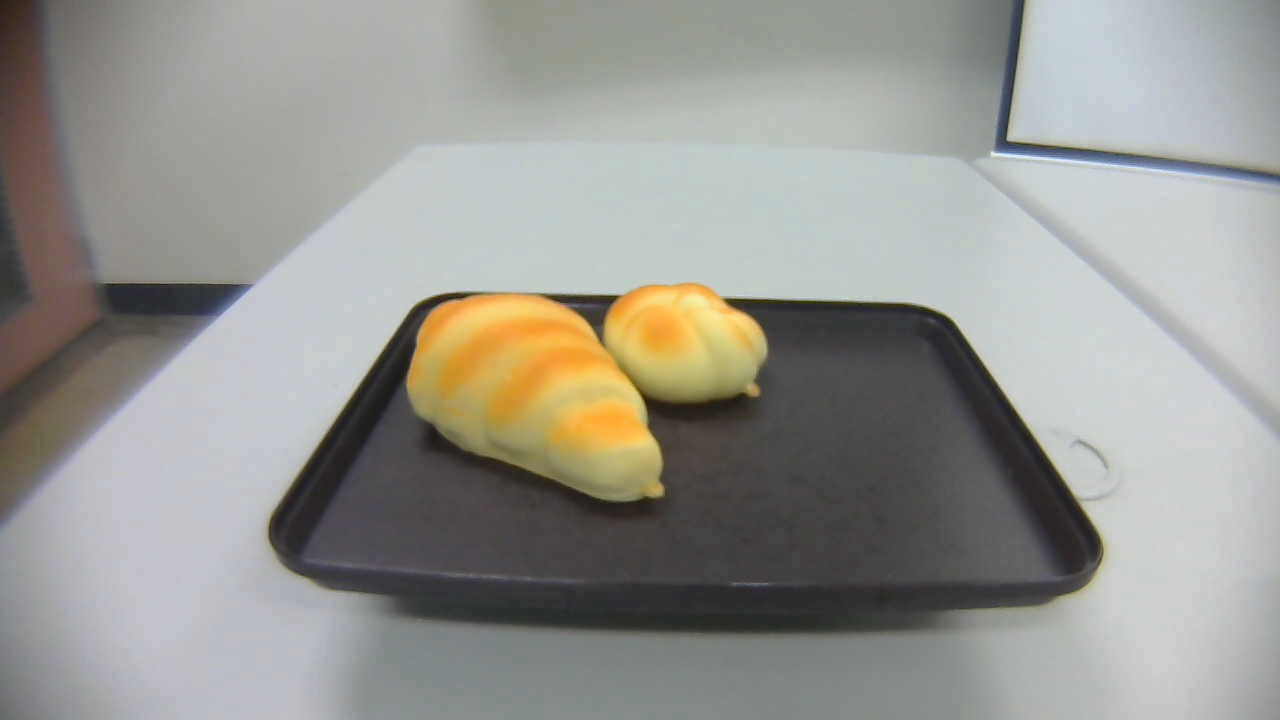croissant: (404, 292, 665, 504)
twist bread: (600, 283, 769, 405)
